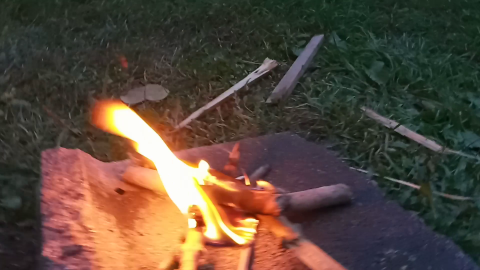fire: (81, 92, 247, 236)
